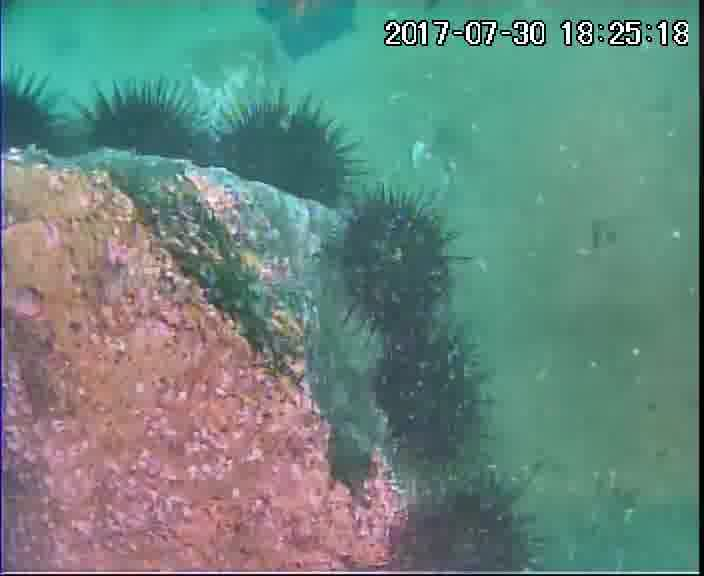echinus: (334, 194, 461, 327), (366, 332, 490, 461), (213, 101, 357, 209), (391, 480, 543, 576), (69, 85, 201, 167), (1, 72, 81, 165)
starfish: (255, 1, 367, 69)
